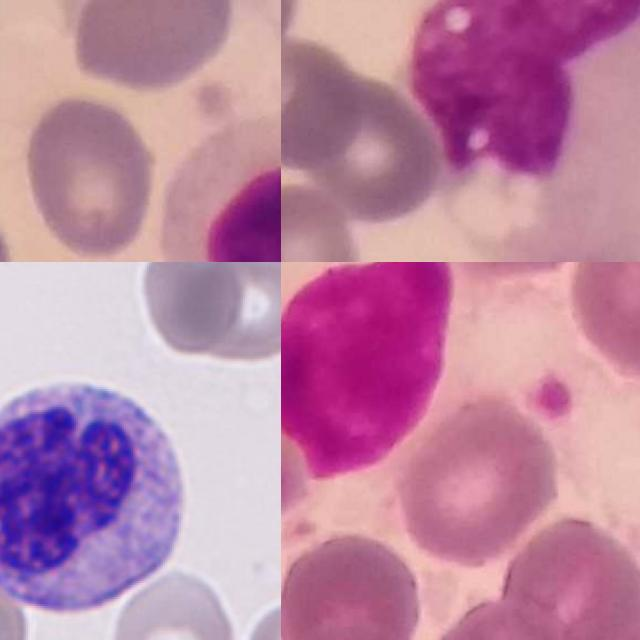Lymphocyte: (0, 364, 200, 625), (162, 110, 281, 262)
Monocyte: (415, 0, 640, 262), (281, 262, 456, 485)
RBC: (133, 262, 243, 360), (106, 563, 241, 640), (193, 262, 281, 367)
